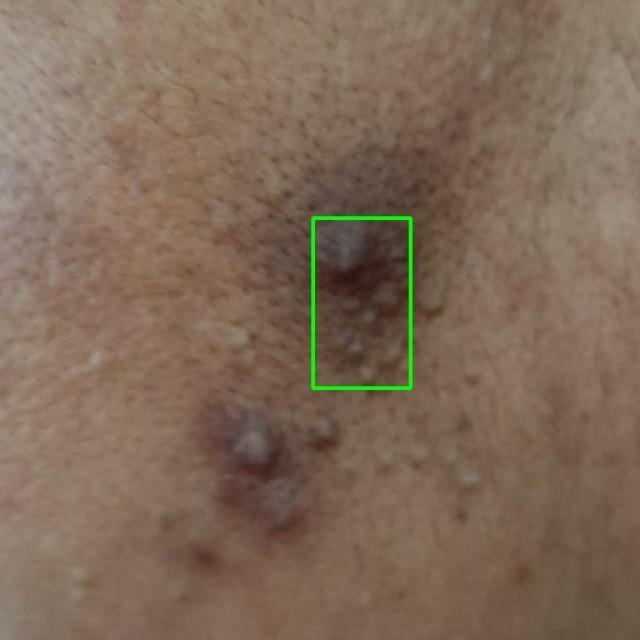Tinea Corporis: (312, 218, 410, 388)
